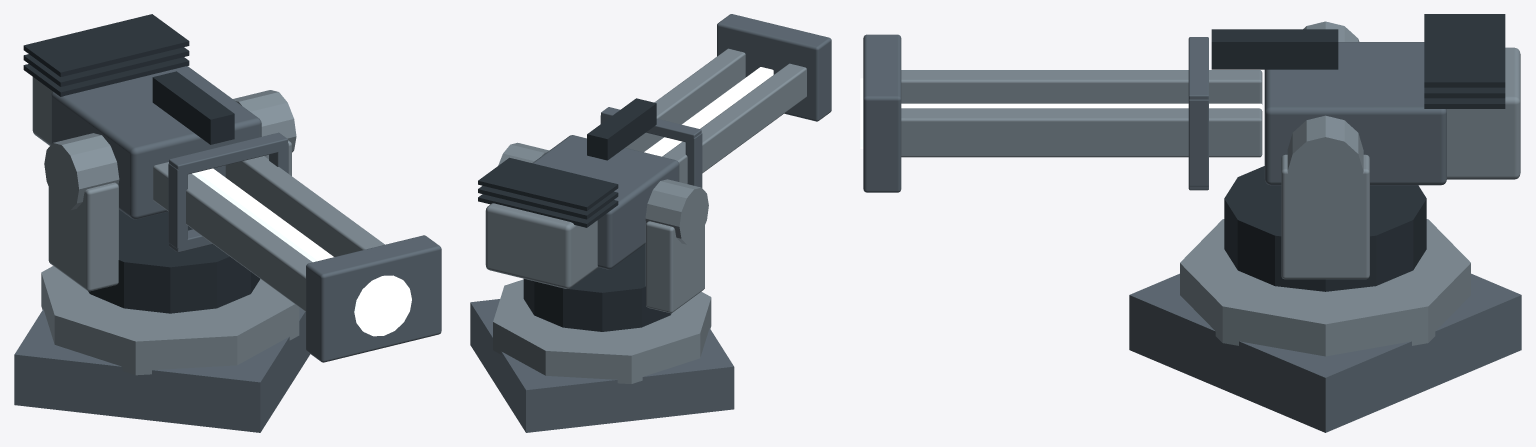
The model's file is lancer_t1_d0.meshopt.glb.
3 views of the same model, side by side, from view 1: azimuth 30°, elevation 25°; view 2: azimuth 150°, elevation 25°; view 3: azimuth 270°, elevation 25° (orthographic). The views are drawn at different scales.
Parts seen in each view (by area): view 1: RECOIL_ARMOR_GEOMETRY, BASE_ARMOR_GEOMETRY, YAW_ARMOR_GEOMETRY, RECOIL_SIGNAL_GEOMETRY; view 2: RECOIL_ARMOR_GEOMETRY, BASE_ARMOR_GEOMETRY, YAW_ARMOR_GEOMETRY, RECOIL_SIGNAL_GEOMETRY; view 3: RECOIL_ARMOR_GEOMETRY, BASE_ARMOR_GEOMETRY, YAW_ARMOR_GEOMETRY, RECOIL_SIGNAL_GEOMETRY.
Boxes of the visible parts, x1,y1,x2,y2 form: RECOIL_ARMOR_GEOMETRY: (23,14,441,362); BASE_ARMOR_GEOMETRY: (14,266,310,432); YAW_ARMOR_GEOMETRY: (48,140,291,313); RECOIL_SIGNAL_GEOMETRY: (192,168,411,336); RECOIL_ARMOR_GEOMETRY: (478,14,831,288); BASE_ARMOR_GEOMETRY: (470,279,734,432); YAW_ARMOR_GEOMETRY: (523,221,704,331); RECOIL_SIGNAL_GEOMETRY: (644,67,773,156); RECOIL_ARMOR_GEOMETRY: (863,14,1520,205); BASE_ARMOR_GEOMETRY: (1129,219,1521,432); YAW_ARMOR_GEOMETRY: (1224,154,1426,291); RECOIL_SIGNAL_GEOMETRY: (860,78,1262,148).
Size of the model in its own units: 1.55 by 1.37 by 2.61.
